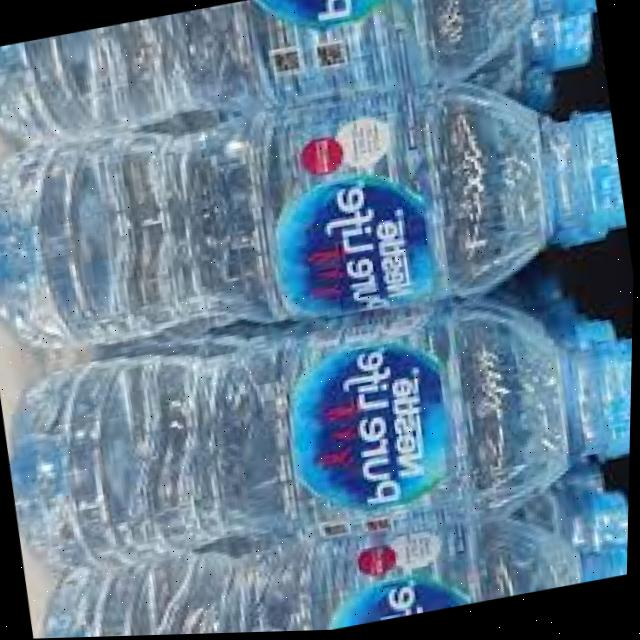Dry: (13, 259, 635, 599), (0, 39, 633, 350), (38, 455, 632, 639), (0, 0, 602, 155)
